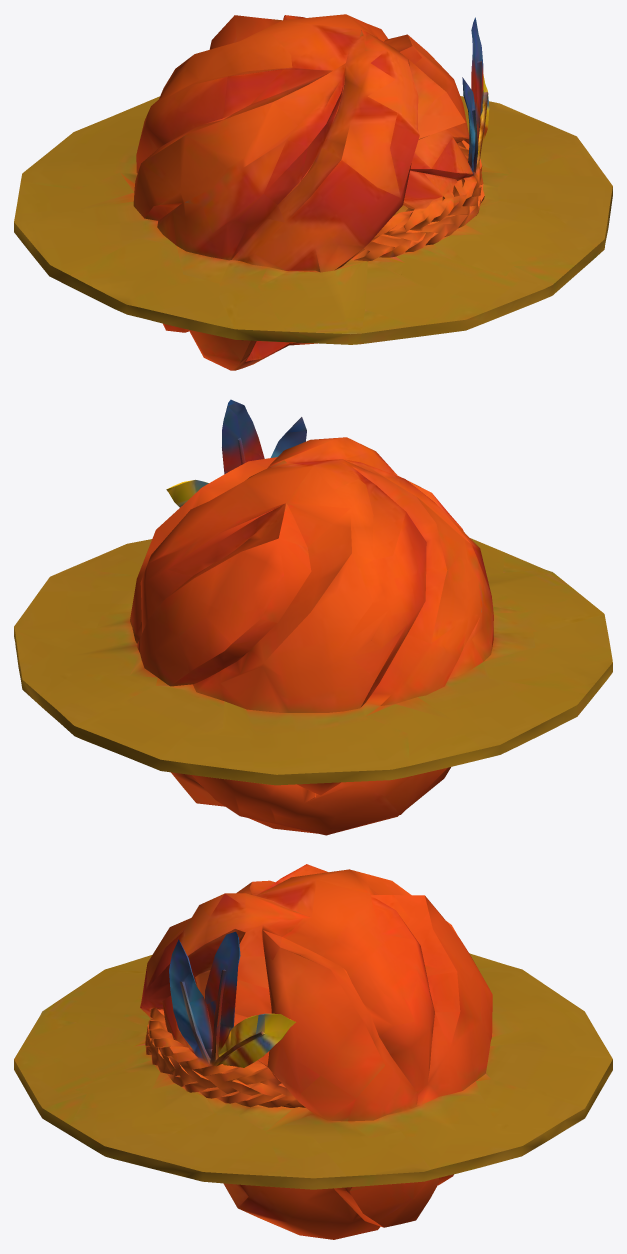
Rendered from hat_iw_feather_idle.glb.
3 renders of one model, top to bottom at view 1: azimuth 30°, elevation 25°; view 2: azimuth 150°, elevation 25°; view 3: azimuth 270°, elevation 25°, orthographic.
Parts seen in each view (by area): view 1: tripo_node_fb82a4a5-196d-476c-aab8-0cdf7b7ec008; view 2: tripo_node_fb82a4a5-196d-476c-aab8-0cdf7b7ec008; view 3: tripo_node_fb82a4a5-196d-476c-aab8-0cdf7b7ec008.
Part boxes in pixels (x1=…): tripo_node_fb82a4a5-196d-476c-aab8-0cdf7b7ec008: x1=14, y1=14, x2=612, y2=370; tripo_node_fb82a4a5-196d-476c-aab8-0cdf7b7ec008: x1=14, y1=399, x2=612, y2=835; tripo_node_fb82a4a5-196d-476c-aab8-0cdf7b7ec008: x1=14, y1=864, x2=612, y2=1239.
Size of the model in its own units: 0.4798 by 0.2999 by 0.4806.
1 material, 1 textured.
